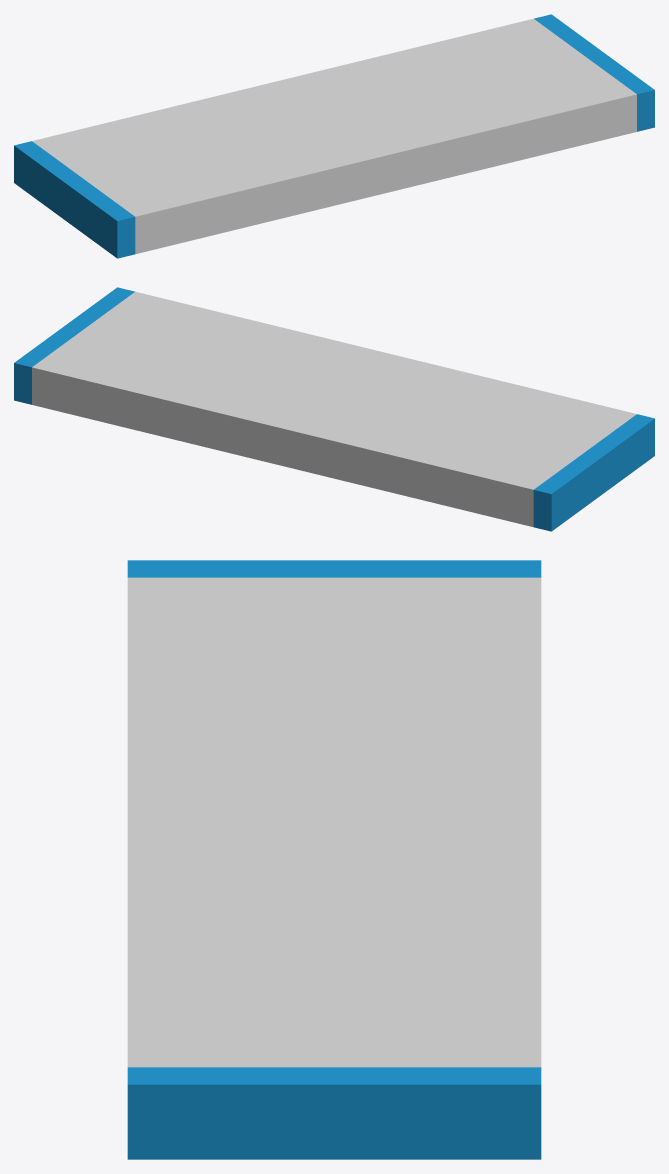
The model's file is WideDefault.fbx.
3 renders of one model, top to bottom at view 1: azimuth 30°, elevation 25°; view 2: azimuth 150°, elevation 25°; view 3: azimuth 270°, elevation 25°, orthographic. The views are drawn at different scales.
Parts seen in each view (by area): view 1: Box_2; view 2: Box_2; view 3: Box_2.
Part boxes in pixels (box(x1,y1,x2,y2)): Box_2: box(14, 14, 654, 258); Box_2: box(14, 287, 654, 531); Box_2: box(127, 560, 541, 1159).
Size of the model in its own units: 30 by 2 by 10.
